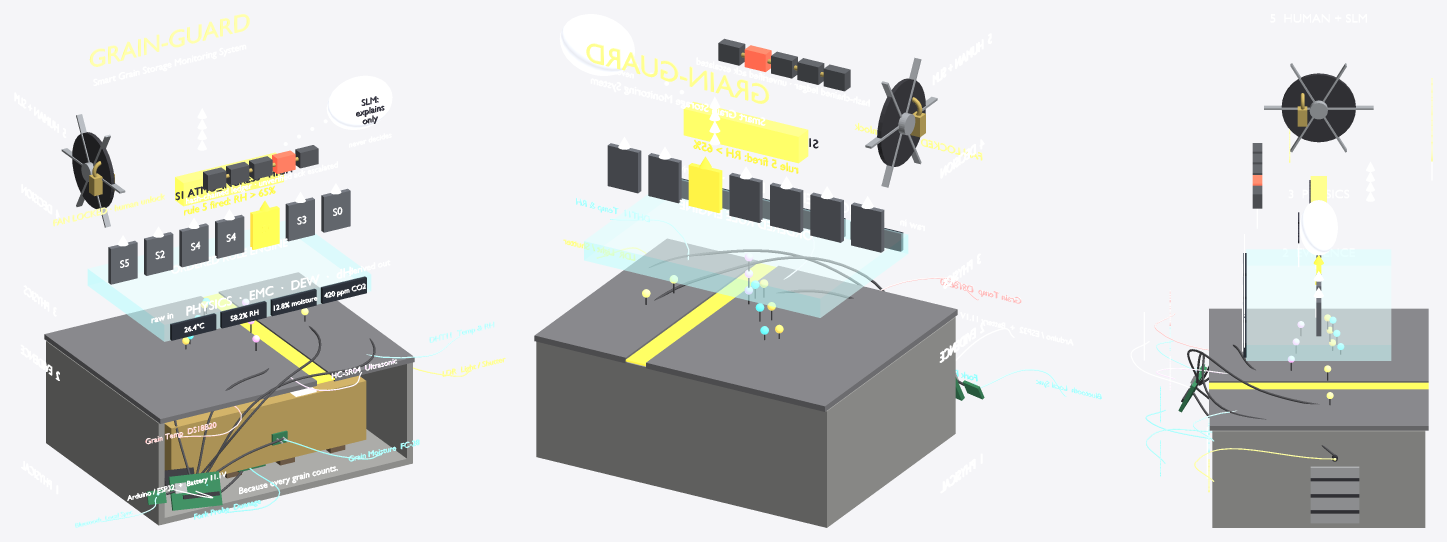
Rendered from grain_guard.glb.
3 renders of one model, left to right at view 1: azimuth 30°, elevation 25°; view 2: azimuth 150°, elevation 25°; view 3: azimuth 270°, elevation 25°, orthographic. The views are drawn at different scales.
Parts seen in each view (by area): view 1: roof_L, physics_slab, grain_bulk, wall_left, roof_R, floor, wall_right, slm_bubble, fan_ring, state_chip, roof_gap_marker, uno_board (+16 smaller); view 2: wall_back, roof_L, physics_slab, wall_left, roof_R, state_chip, slm_bubble, floor, fan_ring, roof_gap_marker, title, gate_6 (+9 smaller); view 3: wall_right, physics_slab, roof_L, roof_R, fan_ring, shutter, roof_gap_marker, slm_bubble, floor, wall_back, w_dht, state_chip (+2 smaller).
Boxes of the visible parts, x1=… form: roof_L: x1=44, y1=296, x2=316, y2=423; physics_slab: x1=87, y1=220, x2=371, y2=341; grain_bulk: x1=164, y1=375, x2=366, y2=474; wall_left: x1=47, y1=341, x2=164, y2=521; roof_R: x1=219, y1=272, x2=414, y2=381; floor: x1=46, y1=429, x2=412, y2=525; wall_right: x1=360, y1=362, x2=412, y2=461; slm_bubble: x1=326, y1=75, x2=392, y2=129; fan_ring: x1=72, y1=132, x2=114, y2=208; state_chip: x1=175, y1=152, x2=283, y2=206; roof_gap_marker: x1=203, y1=293, x2=334, y2=383; uno_board: x1=168, y1=471, x2=222, y2=510; wall_back: x1=536, y1=341, x2=830, y2=523; roof_L: x1=646, y1=266, x2=957, y2=411; physics_slab: x1=584, y1=179, x2=908, y2=317; wall_left: x1=820, y1=317, x2=955, y2=522; roof_R: x1=534, y1=238, x2=757, y2=363; state_chip: x1=683, y1=101, x2=808, y2=163; slm_bubble: x1=559, y1=14, x2=634, y2=75; floor: x1=536, y1=427, x2=955, y2=527; fan_ring: x1=877, y1=78, x2=925, y2=166; roof_gap_marker: x1=625, y1=263, x2=775, y2=366; title: x1=586, y1=43, x2=769, y2=103; gate_6: x1=607, y1=143, x2=641, y2=193; wall_right: x1=1212, y1=430, x2=1418, y2=521; physics_slab: x1=1246, y1=249, x2=1391, y2=360; roof_L: x1=1209, y1=308, x2=1428, y2=382; roof_R: x1=1209, y1=389, x2=1428, y2=430; fan_ring: x1=1281, y1=73, x2=1355, y2=142; shutter: x1=1310, y1=466, x2=1359, y2=523; roof_gap_marker: x1=1209, y1=382, x2=1428, y2=389; slm_bubble: x1=1299, y1=200, x2=1337, y2=255; floor: x1=1212, y1=522, x2=1425, y2=527; wall_back: x1=1419, y1=430, x2=1425, y2=524; w_dht: x1=1187, y1=349, x2=1319, y2=404; state_chip: x1=1310, y1=176, x2=1326, y2=202.
Size of what is drawn, in the model's own units: 15.22 by 12.56 by 9.35.
